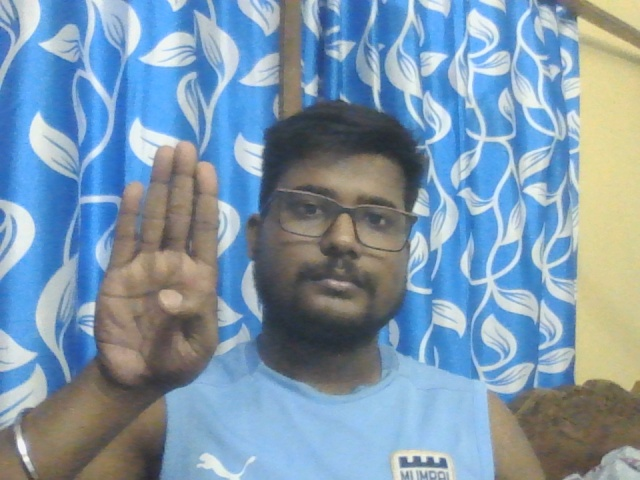B: (95, 141, 220, 392)
